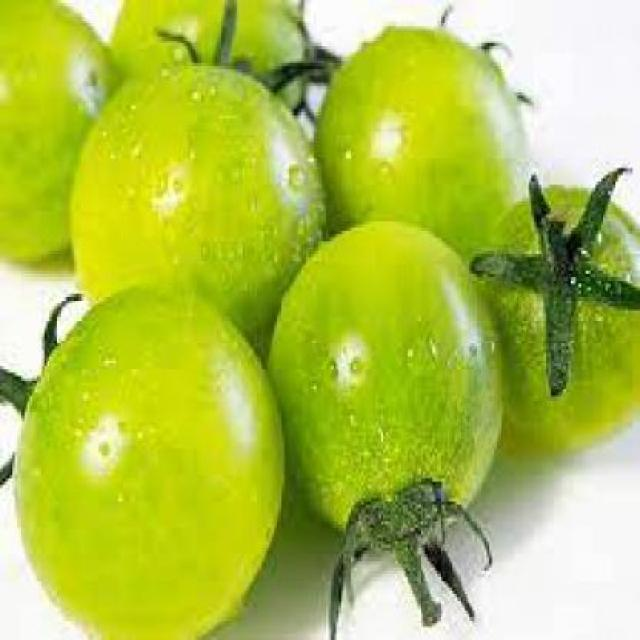yesil: (0, 0, 637, 619)
